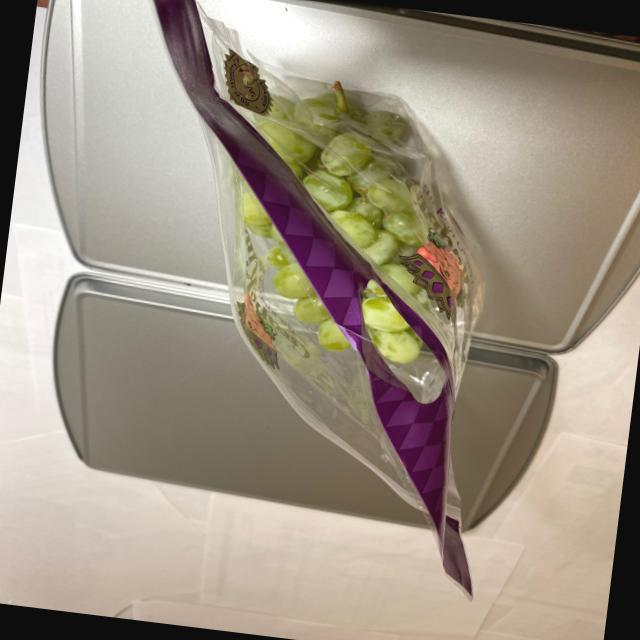grapes: (212, 77, 468, 390)
